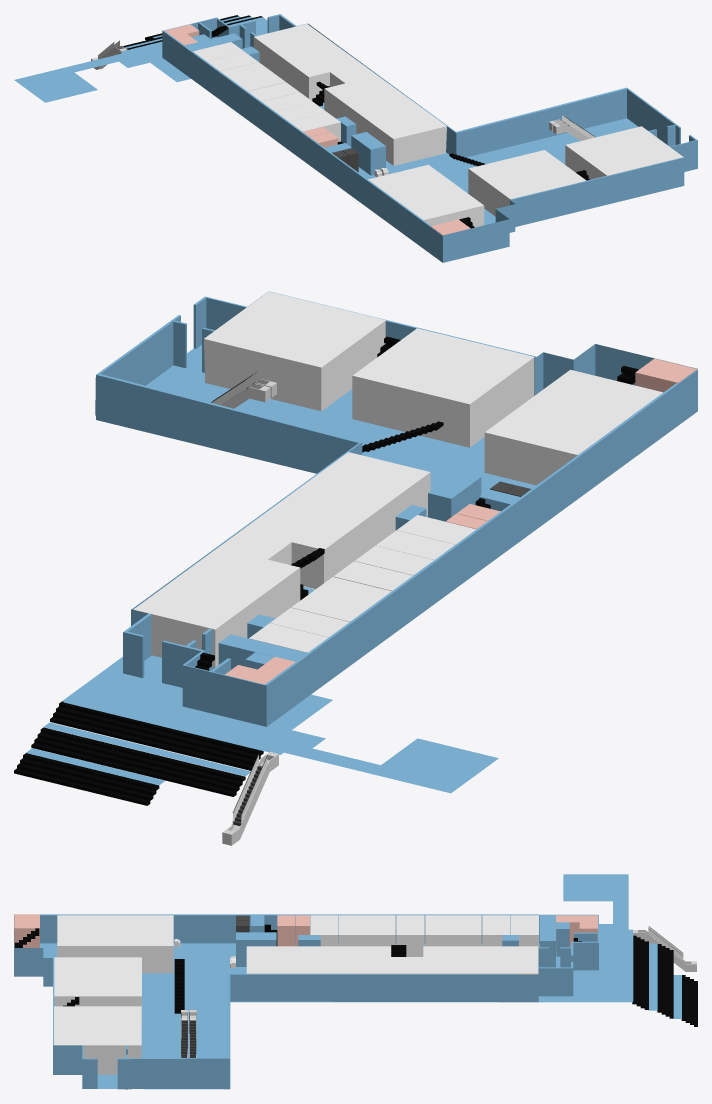
The picture shows the model from 3 angles, top to bottom: view 1: azimuth 30°, elevation 25°; view 2: azimuth 150°, elevation 25°; view 3: azimuth 270°, elevation 25°; orthographic projection. The views are drawn at different scales.
Visible parts, largest first — view 1: エレベーター10_1_3, 情報コアゾーン, 10102, 10103, 10101, ゼミ101A, ゼミ101E, ゼミ101G, ゼミ101D, ゼミ101B, ゼミ101C, ゼミ101H (+3 smaller); view 2: エレベーター10_1_3, 情報コアゾーン, 10102, 10101, 10103, 階段10_1_8, 階段10_1_7, 階段10_1_9, エスカレーター10_1_3, 男子トイレ10_1_1, ゼミ101D, ゼミ101F (+8 smaller); view 3: エレベーター10_1_3, 情報コアゾーン, 10103, 10101, 10102, 階段10_1_8, 階段10_1_7, ゼミ101D, ゼミ101C, ゼミ101E, ゼミ101F, ゼミ101B (+11 smaller).
Part boxes in pixels (x1,y1,x2,y2): エレベーター10_1_3: (14,14,697,262); 情報コアゾーン: (253,24,446,165); 10102: (468,150,586,216); 10103: (368,164,484,227); 10101: (565,126,683,179); ゼミ101A: (289,112,340,141); ゼミ101E: (234,72,285,91); ゼミ101G: (207,52,257,71); ゼミ101D: (248,82,299,101); ゼミ101B: (275,102,326,121); ゼミ101C: (262,92,313,111); ゼミ101H: (193,42,244,61); エレベーター10_1_3: (26,291,697,793); 情報コアゾーン: (133,452,430,668); 10102: (352,328,534,447); 10101: (204,291,386,411); 10103: (484,369,663,485); 階段10_1_8: (31,727,245,796); 階段10_1_7: (50,701,263,770); 階段10_1_9: (14,753,159,805); エスカレーター10_1_3: (222,752,278,845); 男子トイレ10_1_1: (635,358,697,392); ゼミ101D: (333,561,412,591); ゼミ101F: (291,592,370,621); エレベーター10_1_3: (14,874,681,1089); 情報コアゾーン: (246,946,538,974); 10103: (57,915,173,973); 10101: (54,1006,141,1074); 10102: (54,957,141,1025); 階段10_1_8: (657,944,673,1018); 階段10_1_7: (632,935,648,1009); ゼミ101D: (396,915,424,956); ゼミ101C: (367,915,395,956); ゼミ101E: (425,915,453,946); ゼミ101F: (453,915,481,946); ゼミ101B: (339,915,367,946).
Size of the model in its own units: 2.75 by 0.4417 by 3.7.
